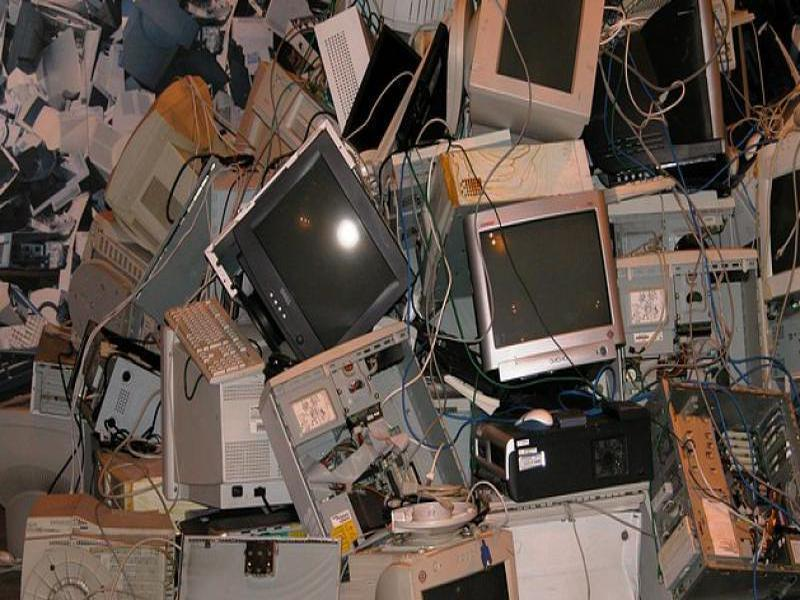keyboard: (162, 296, 270, 384)
mouse: (512, 406, 554, 434)
tv_pc: (203, 124, 421, 366), (456, 188, 634, 383), (444, 1, 610, 141)
